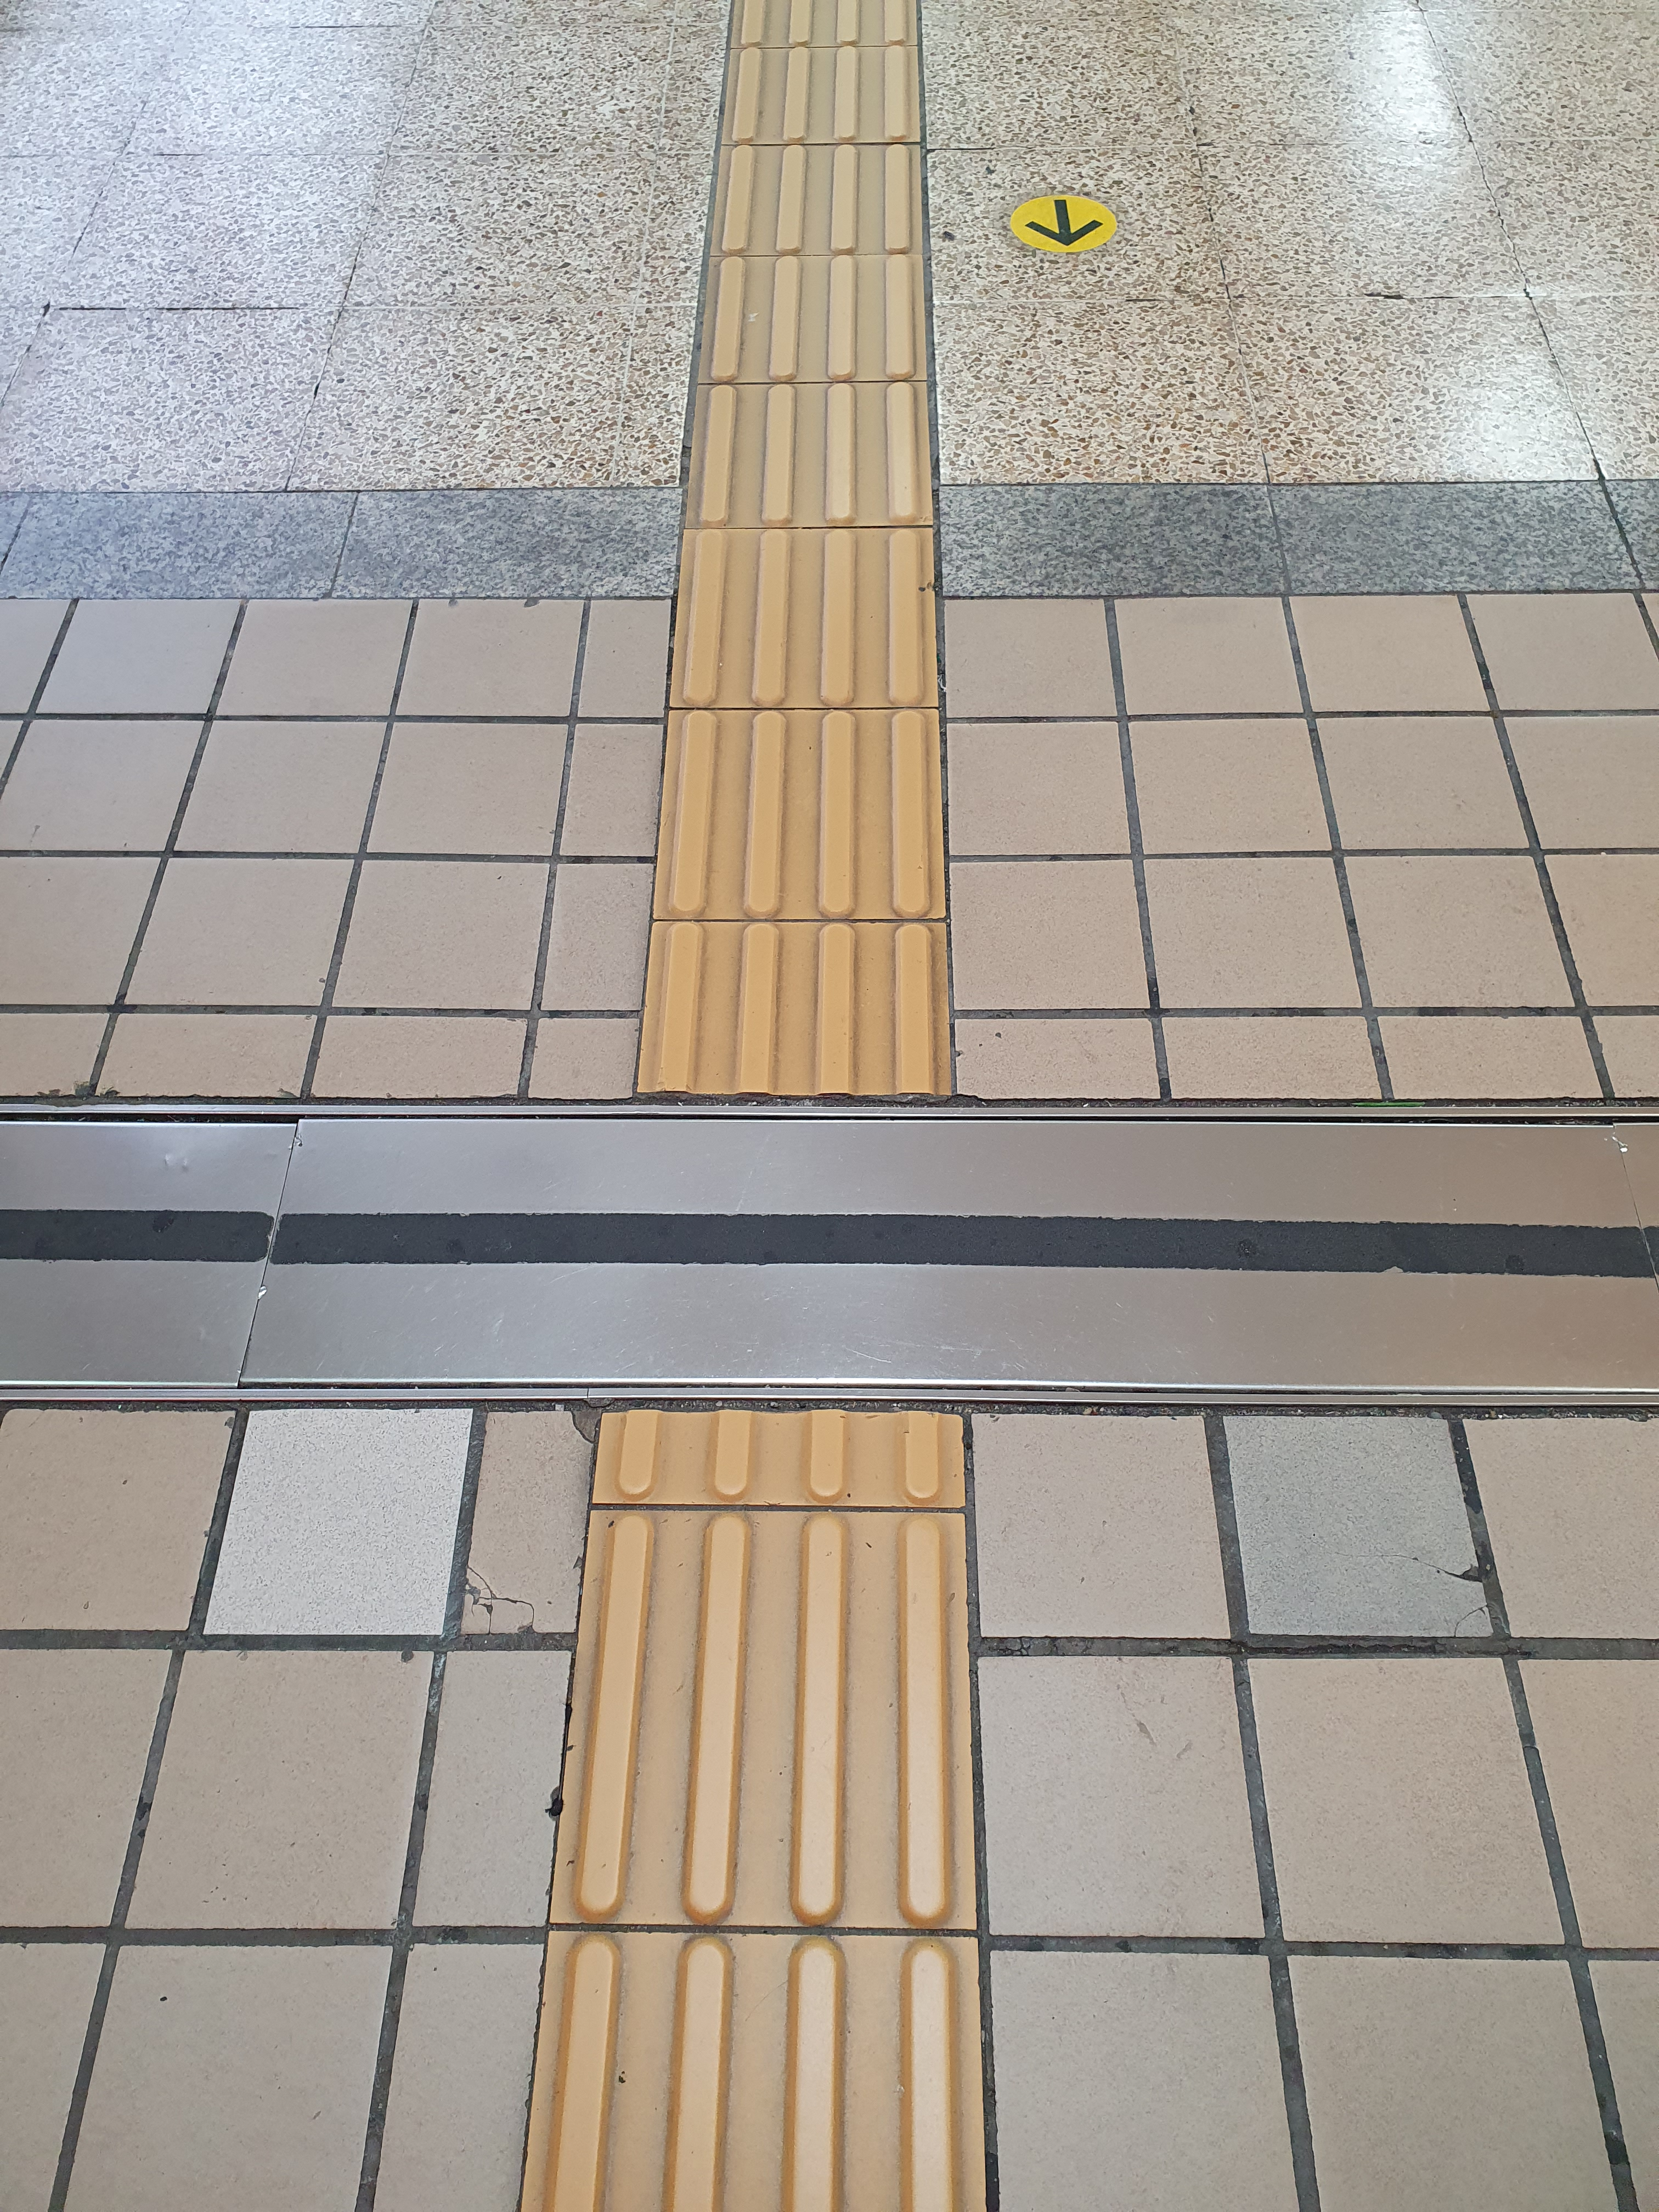guideBlock: (573, 1550, 1006, 1956), (563, 1939, 979, 2212), (669, 723, 927, 921), (650, 946, 932, 1099), (694, 385, 941, 550), (680, 550, 915, 714), (713, 256, 958, 397), (716, 132, 936, 261), (739, 10, 922, 139)
